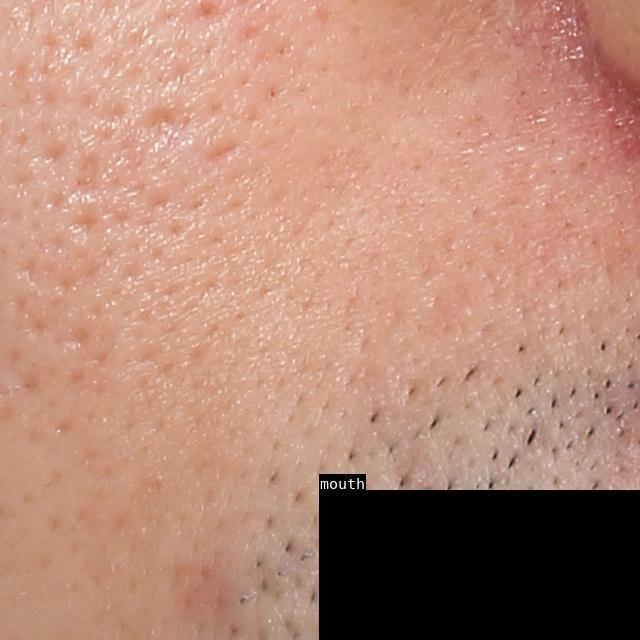atrophic_scar: (138, 104, 186, 146), (77, 143, 104, 192), (68, 211, 102, 239)
